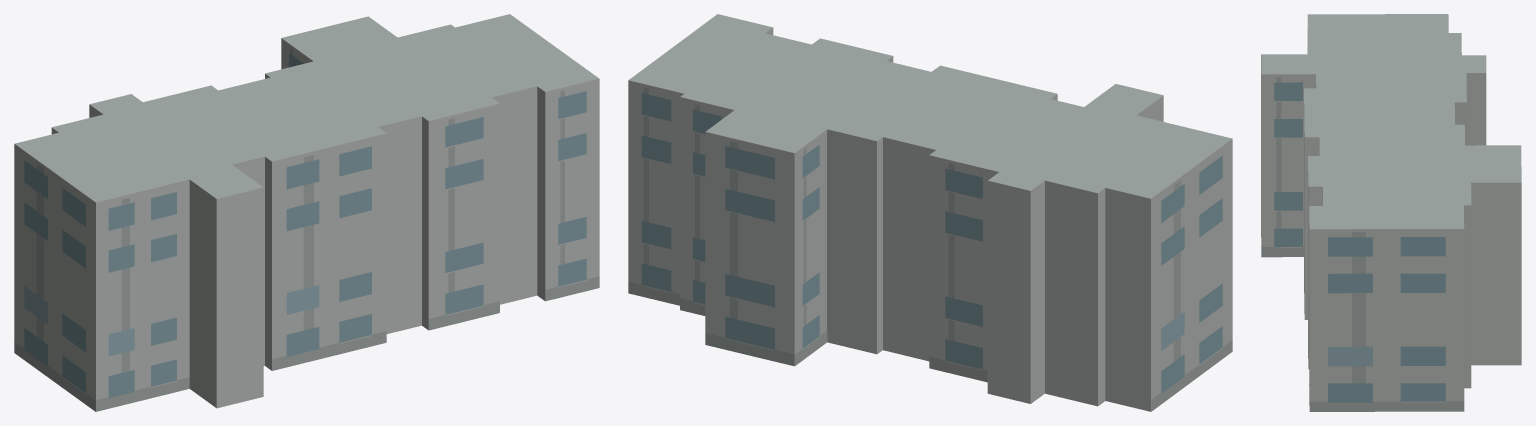
Rendered from residential-4b71e367-9182-46e7-834a-dd5670f73682.glb.
3 views of the same model, side by side, from view 1: azimuth 30°, elevation 25°; view 2: azimuth 150°, elevation 25°; view 3: azimuth 270°, elevation 25° (orthographic). The views are drawn at different scales.
Visible parts, largest first — view 1: residential-4b71e367-9182-46e7-834a-dd5670f73682.tmp; view 2: residential-4b71e367-9182-46e7-834a-dd5670f73682.tmp; view 3: residential-4b71e367-9182-46e7-834a-dd5670f73682.tmp.
Boxes of the visible parts, bbox=[...] form: residential-4b71e367-9182-46e7-834a-dd5670f73682.tmp: bbox=[14, 14, 599, 411]; residential-4b71e367-9182-46e7-834a-dd5670f73682.tmp: bbox=[628, 14, 1232, 411]; residential-4b71e367-9182-46e7-834a-dd5670f73682.tmp: bbox=[1261, 14, 1521, 411].
Size of the model in its own units: 38.54 by 15.25 by 19.72.
